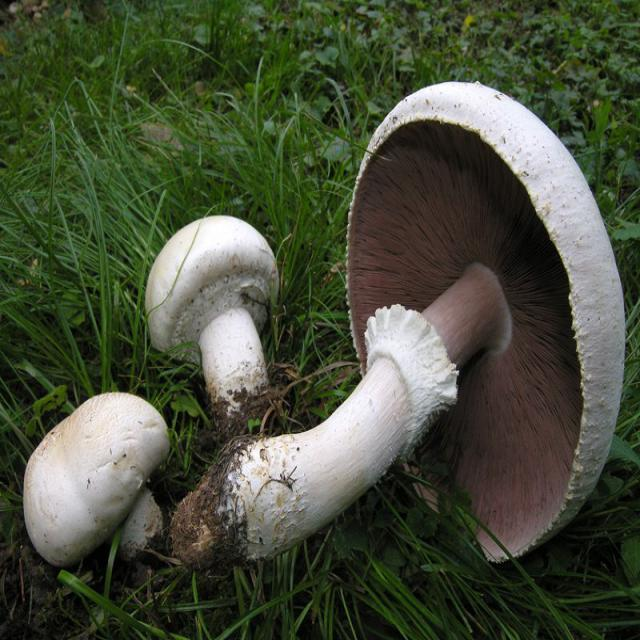Agaricus bisporus: (178, 76, 626, 567), (146, 218, 283, 423), (26, 388, 171, 563)
